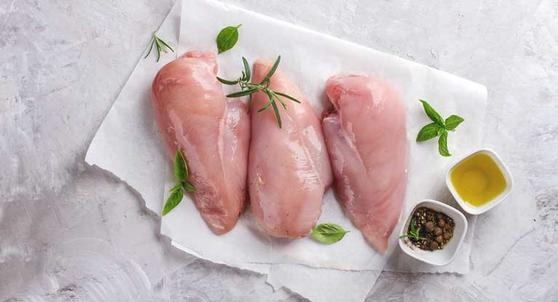chicken_fillet: (138, 50, 248, 223), (321, 68, 415, 248), (241, 66, 335, 245)
